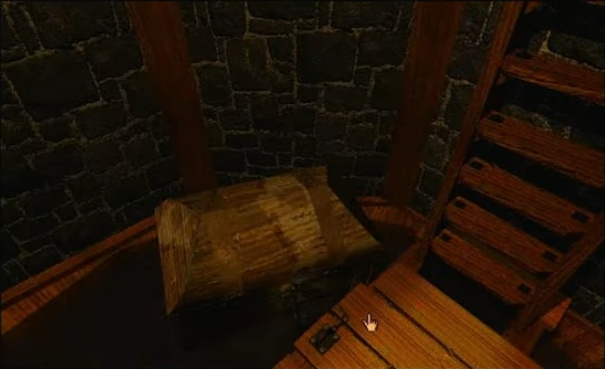Pointer: (359, 311, 382, 333)
